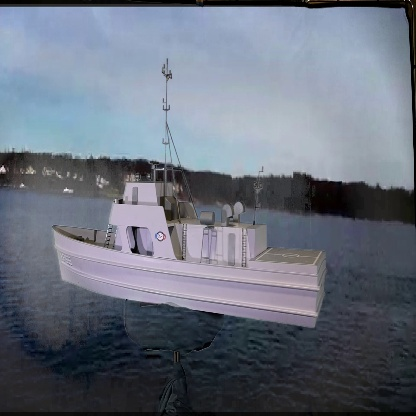YP689: (52, 56, 327, 333)
